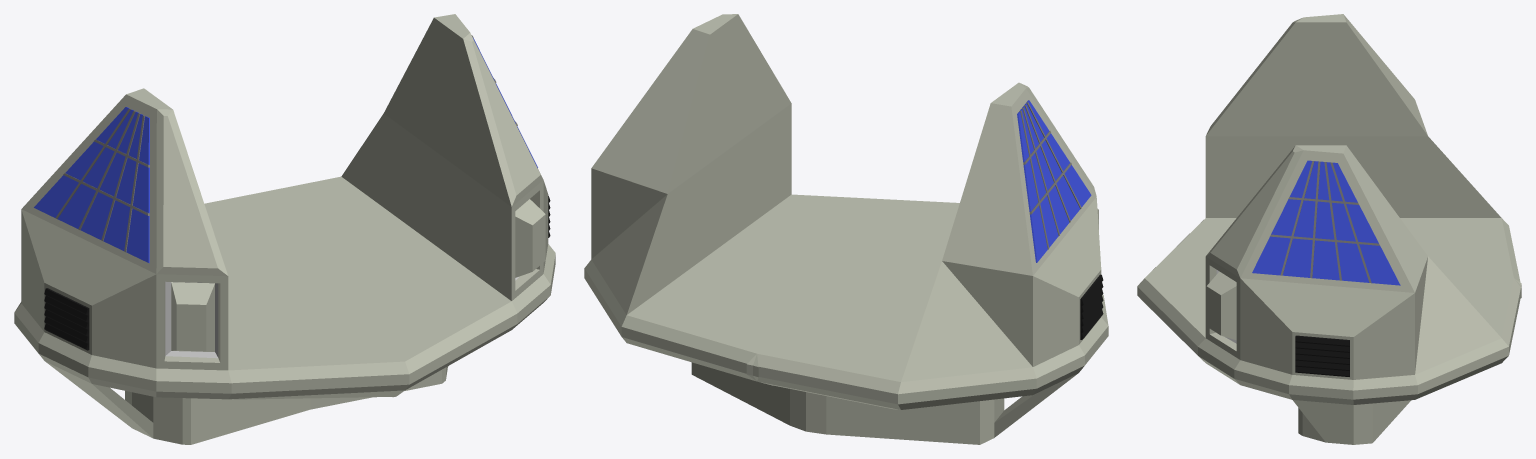
The model's file is Top Turret Sep .fbx.
The picture shows the model from 3 angles, left to right: view 1: azimuth 30°, elevation 25°; view 2: azimuth 150°, elevation 25°; view 3: azimuth 270°, elevation 25°; orthographic projection. The views are drawn at different scales.
Visible parts, largest first — view 1: top turret.010; view 2: top turret.010; view 3: top turret.010.
Part boxes in pixels (left/top/right/bottom): top turret.010: left=14, top=14, right=555, bottom=444; top turret.010: left=584, top=14, right=1108, bottom=444; top turret.010: left=1137, top=14, right=1521, bottom=444.
Bounding box in the file's own units: 581 × 384 × 452.
